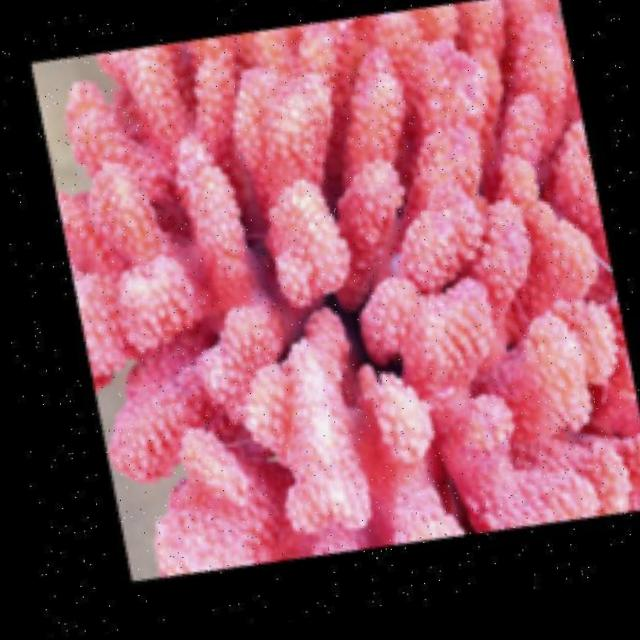Healthy Coral: (85, 0, 620, 575)
